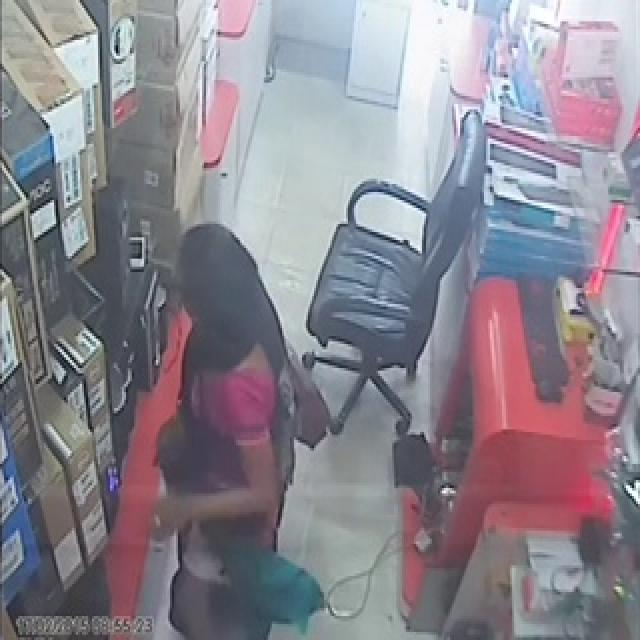shoplifting: (156, 221, 324, 640)
